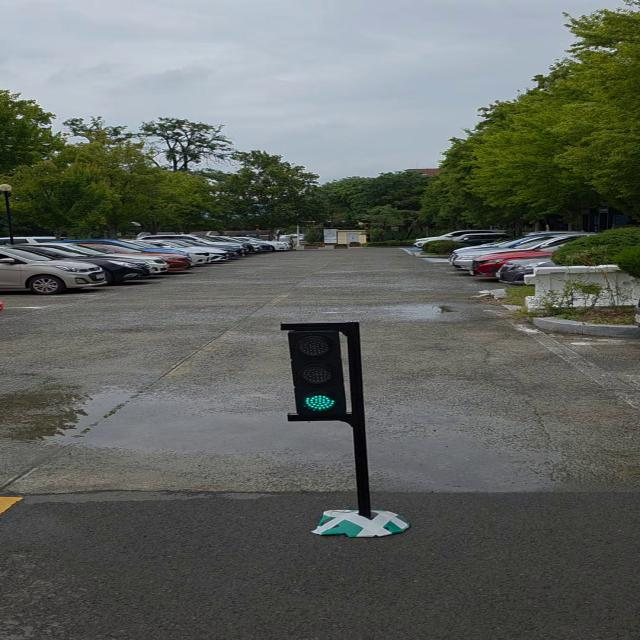green: (289, 324, 361, 422)
